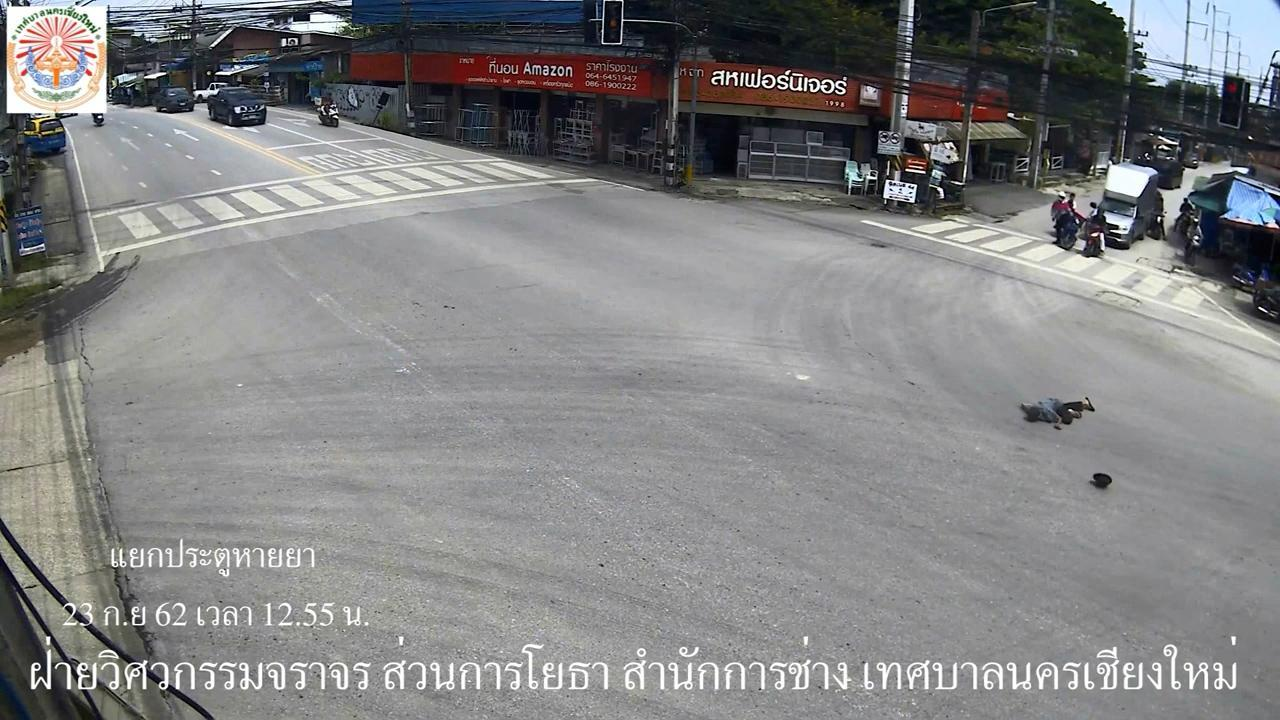accident: (1016, 390, 1101, 432)
